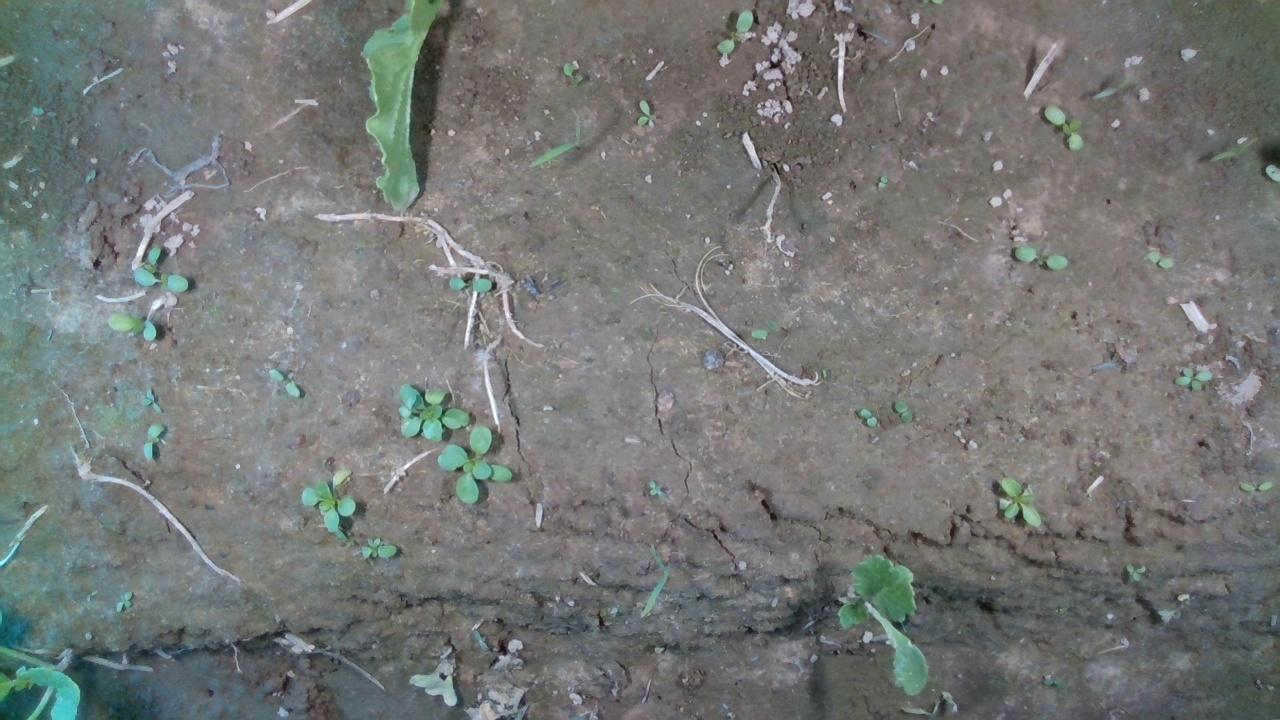weed: (994, 473, 1043, 527), (1040, 102, 1085, 151), (713, 8, 754, 57), (1012, 244, 1069, 271), (132, 266, 189, 293), (105, 311, 157, 340), (1170, 365, 1215, 390), (266, 366, 301, 396), (141, 421, 164, 461), (358, 534, 395, 558), (445, 275, 494, 291), (137, 385, 164, 413), (636, 98, 659, 128), (1143, 249, 1174, 268), (893, 400, 915, 423), (1122, 561, 1147, 581), (1238, 479, 1272, 493), (560, 61, 583, 81), (856, 407, 878, 426), (645, 479, 665, 498), (874, 173, 887, 189)
